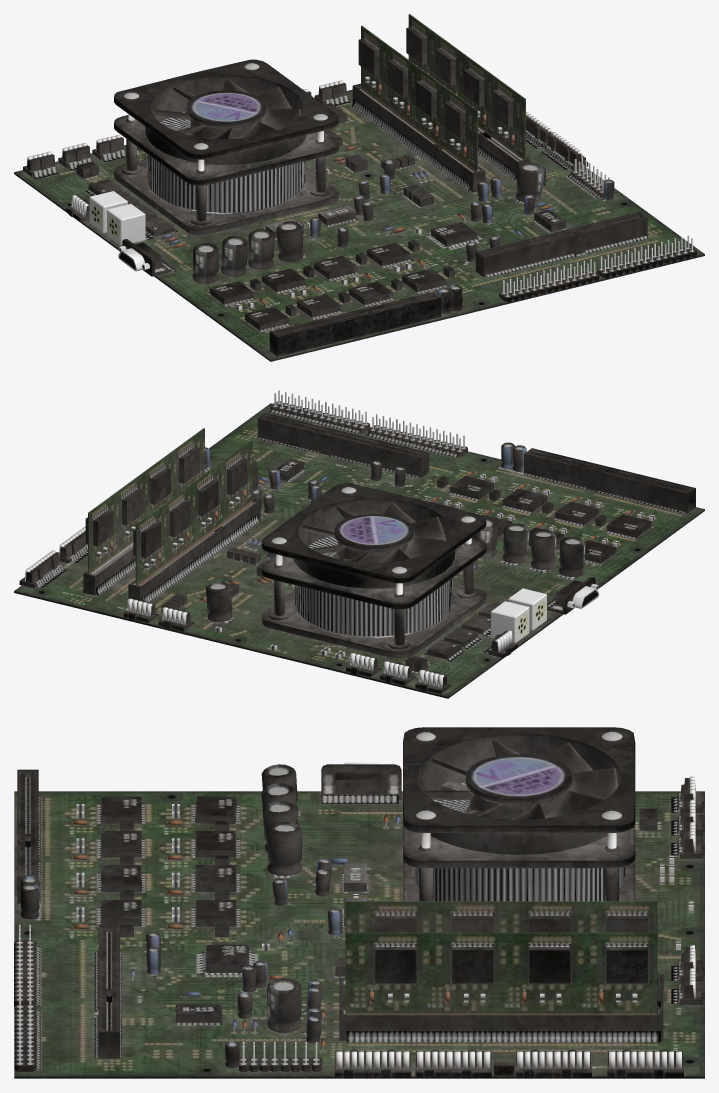
Rendered from circuit_board_1k.glb.
The picture shows the model from 3 angles, top to bottom: view 1: azimuth 30°, elevation 25°; view 2: azimuth 150°, elevation 25°; view 3: azimuth 270°, elevation 25°; orthographic projection. The views are drawn at different scales.
Parts seen in each view (by area): view 1: circuit_board; view 2: circuit_board; view 3: circuit_board.
Part boxes in pixels (<box>): circuit_board: <box>14,14,704,361</box>; circuit_board: <box>14,390,704,698</box>; circuit_board: <box>14,727,704,1078</box>.
Size of the model in its own units: 0.4035 by 0.0783 by 0.3974.
Materials: 2 (2 with a texture image).
